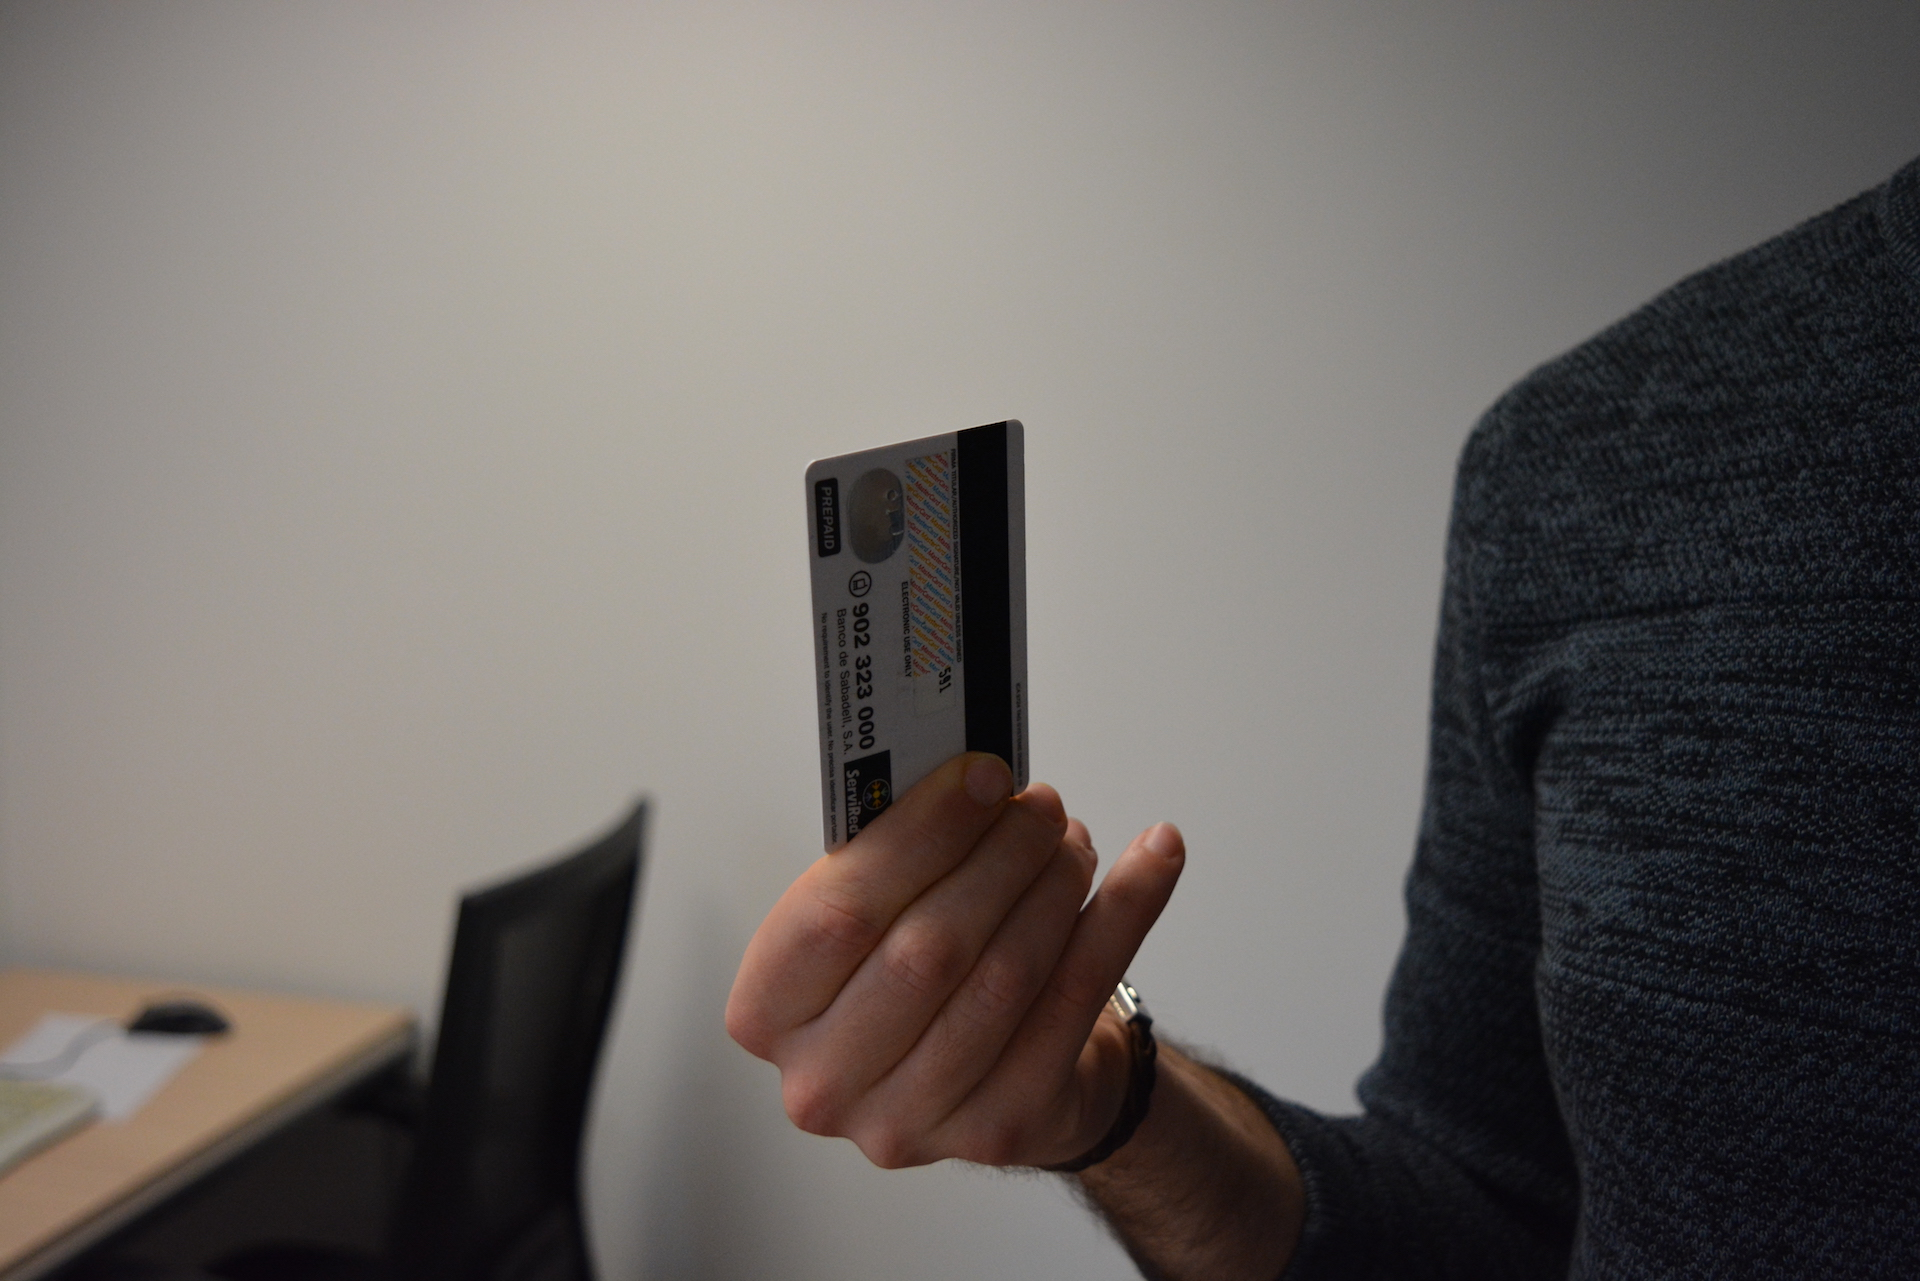tarjeta: (803, 417, 1034, 858)
